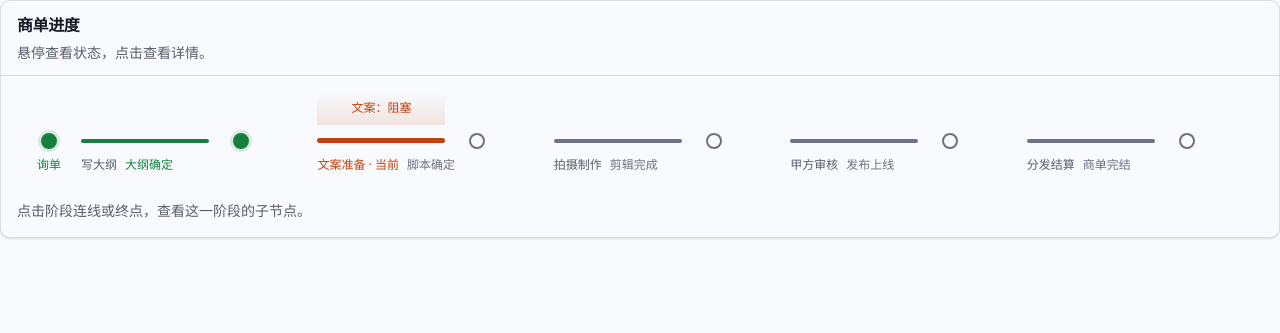
Scenario: ProgressTimeline › puts a missing block reason on the same node card
The width and height of the screenshot is (1280, 333).
Click the button with test id "progress-stage" showing "文案：阻塞 文案准备 · 当前 脚本确定": x=436, y=140 [317, 92, 554, 188]
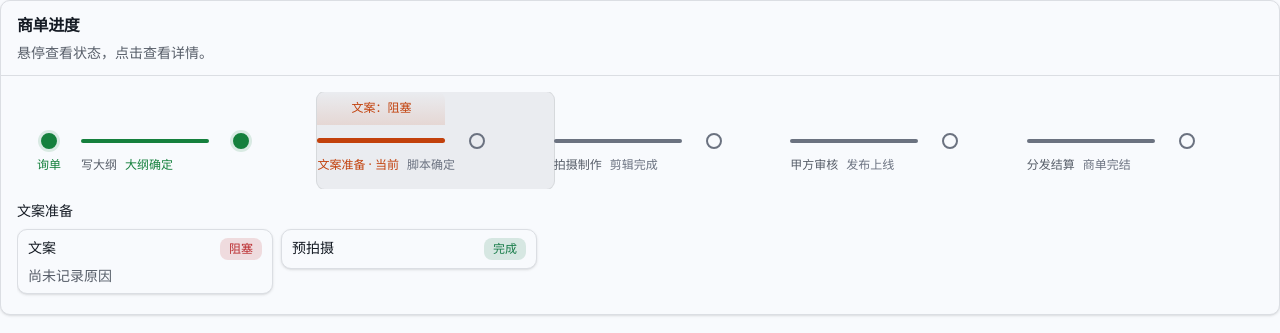
Expected: the text with test id "progress-blocker" reads "尚未记录原因", [28, 266, 112, 284]
Expected: the element with test id "progress-stage-node" shows "文案", [28, 238, 56, 256]
Expected: the element with test id "progress-stage-node" shows "阻塞", [229, 240, 253, 256]
